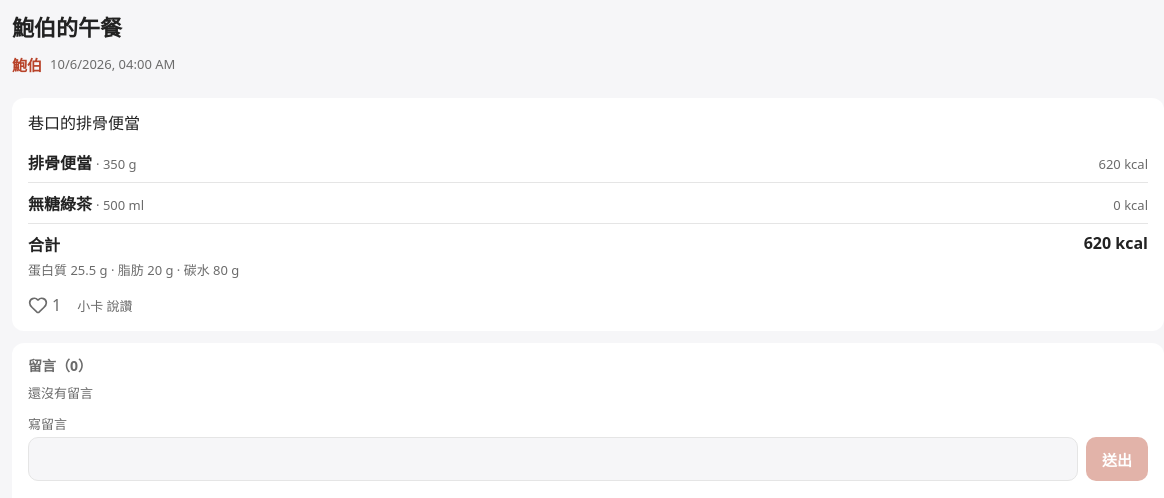
餐點頁：好友的餐 › 按讚：數字馬上變，名單等這一餐重抓回來之後多一個「我」
Expected: the text "小卡 說讚" is shown, left=77, top=296, right=133, bottom=314
Click the button named "讚，鮑伯的午餐" at point(45, 305), box left=20, top=283, right=69, bottom=327
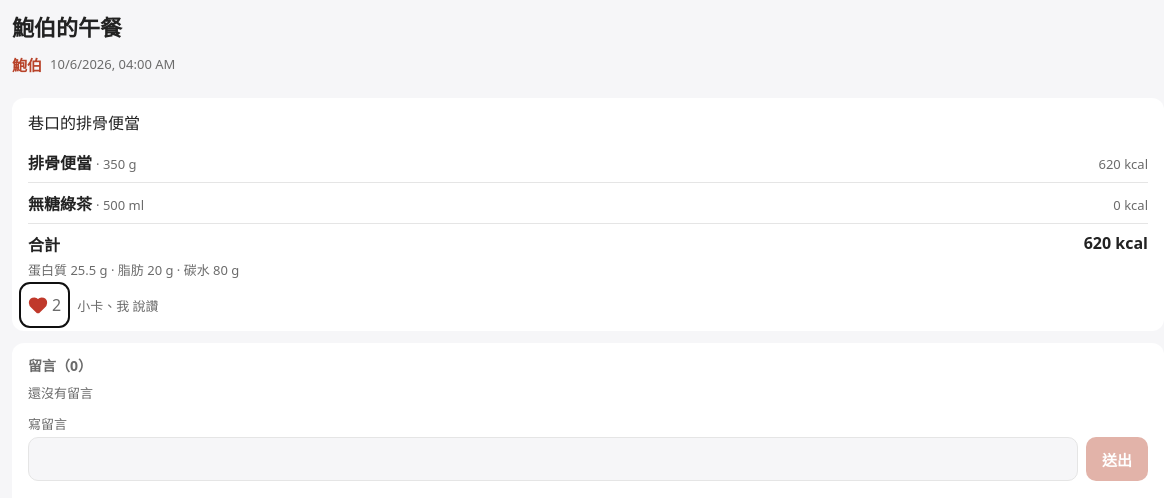
Expected: the text "小卡、我 說讚" is shown, left=77, top=296, right=159, bottom=314
